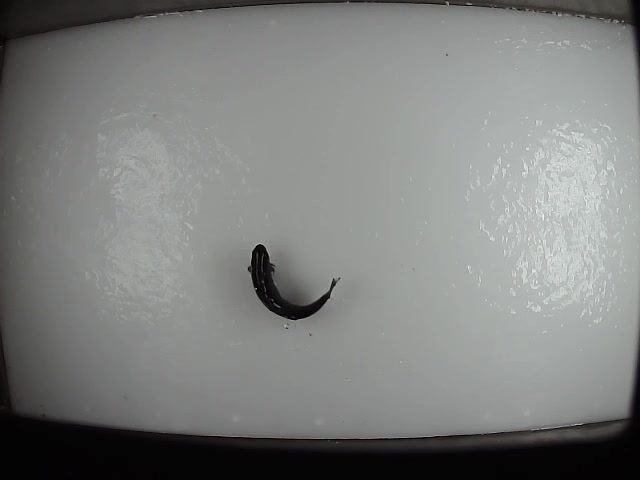fish: (247, 241, 343, 320)
